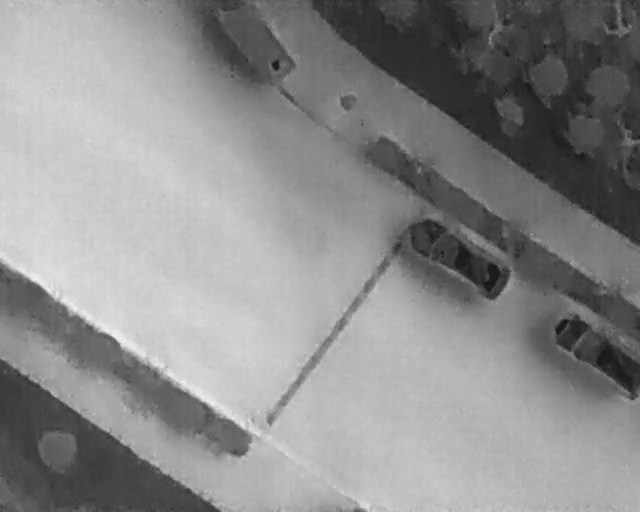Car: (397, 203, 523, 308), (551, 311, 639, 400)
